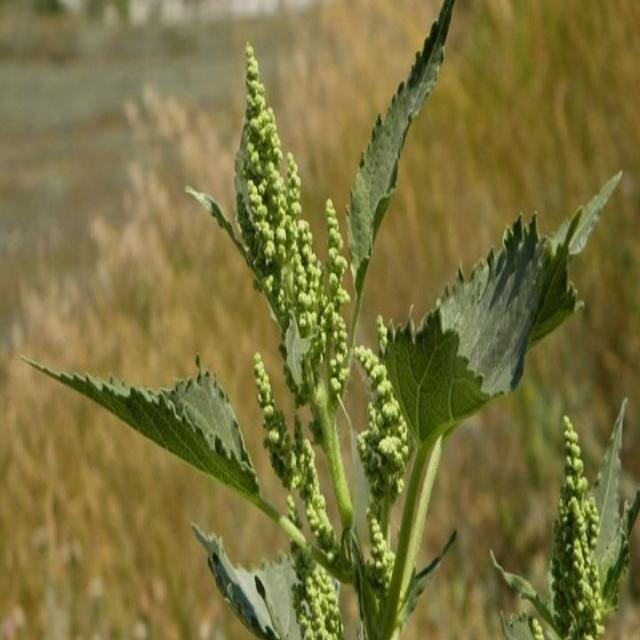ambrosia: (215, 60, 406, 563)
